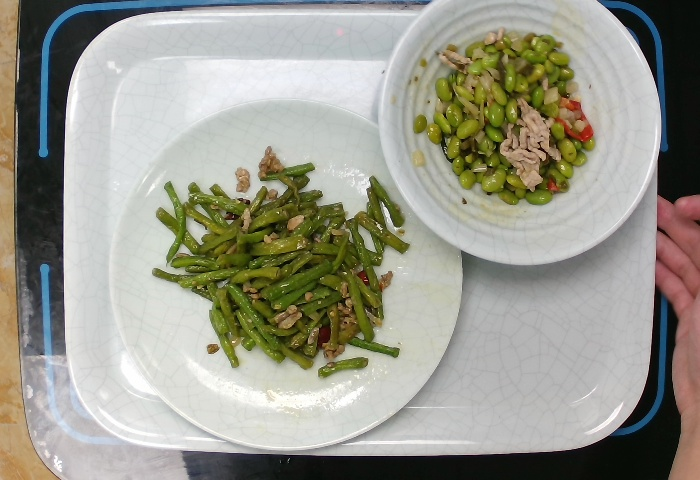JYsf-Da_Yuan_Pan: (108, 102, 468, 448)
JYsf-Xiao_Tang_Wan: (381, 1, 665, 275)
